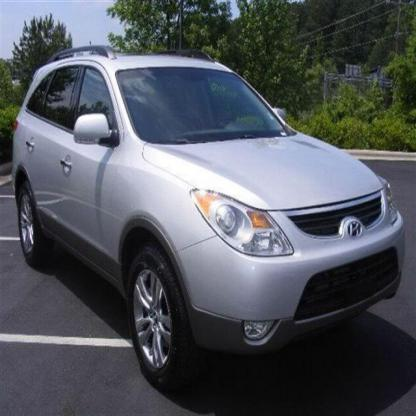car: (13, 42, 406, 392)
